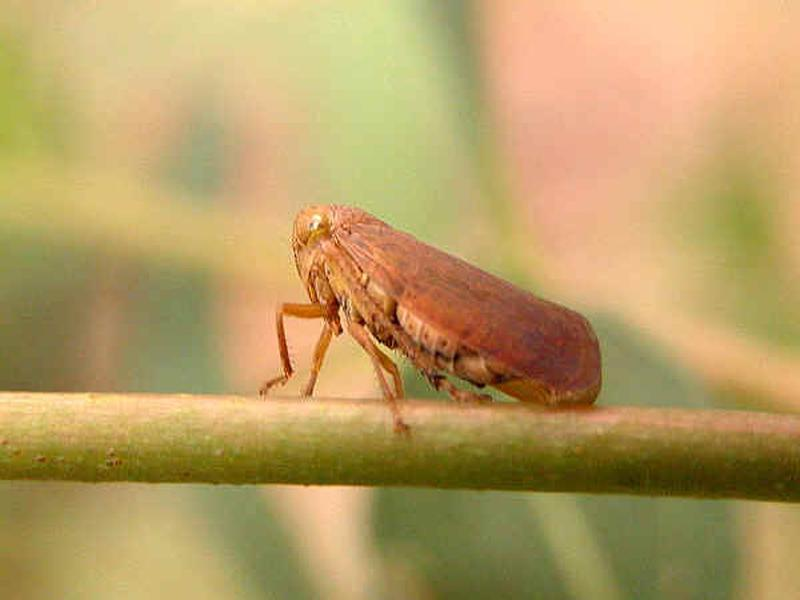Brown_plant_leafhopper: (231, 184, 633, 441)
